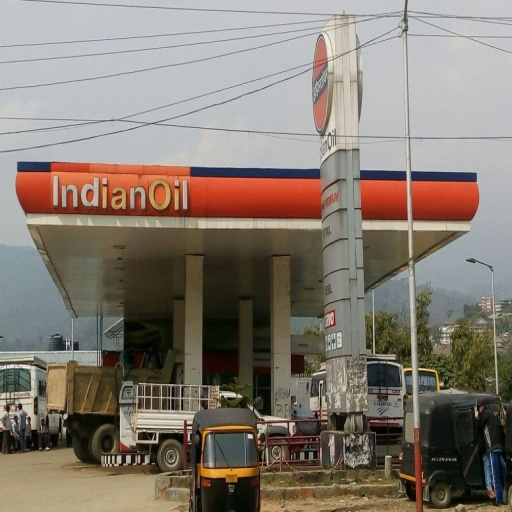roof: (15, 161, 481, 297)
